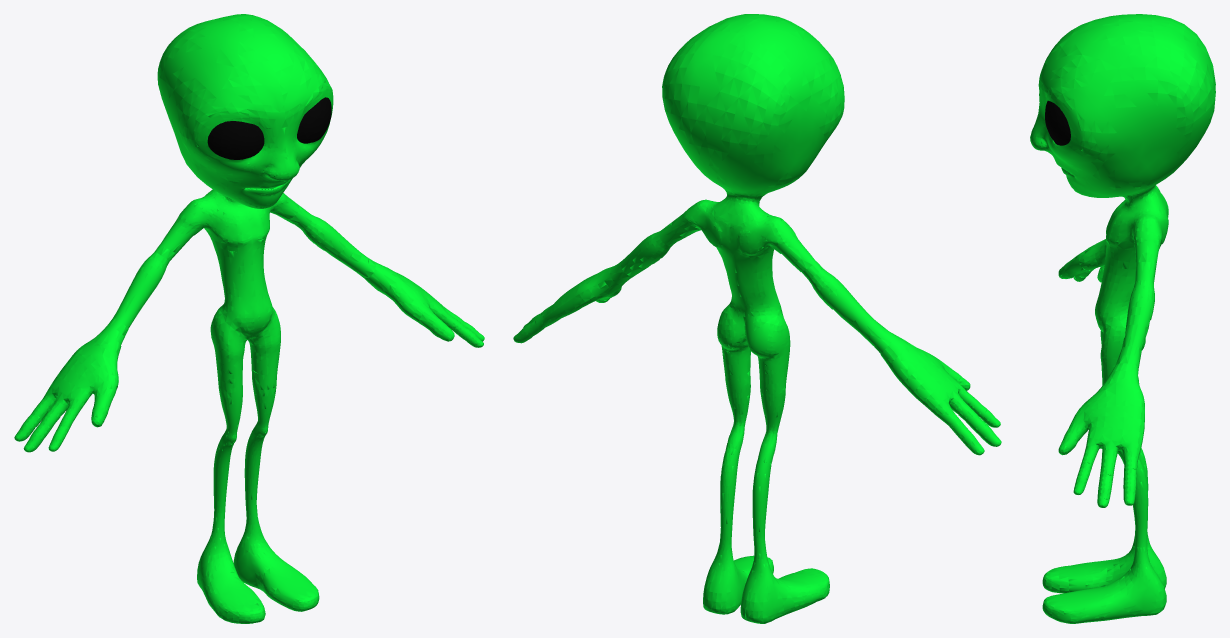
Rendered from alienPoss.dae.
3 renders of one model, left to right at view 1: azimuth 30°, elevation 25°; view 2: azimuth 150°, elevation 25°; view 3: azimuth 270°, elevation 25°, orthographic. The views are drawn at different scales.
Parts seen in each view (by area): view 1: full model.003; view 2: full model.003; view 3: full model.003.
Boxes of the visible parts, x1,y1,x2,y2 form: full model.003: [14, 14, 484, 623]; full model.003: [513, 14, 1001, 623]; full model.003: [1030, 14, 1215, 623].
Bounding box in the file's own units: 4.99 × 1.7 × 5.84.
